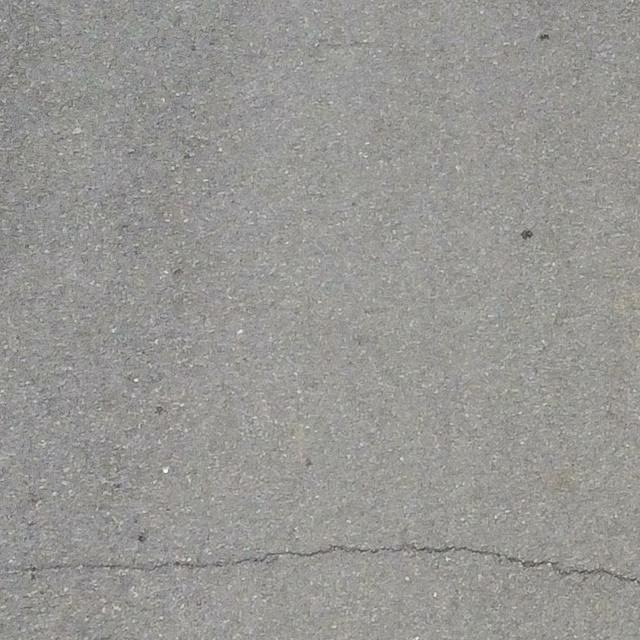TransverseCrack: (26, 544, 640, 587)
